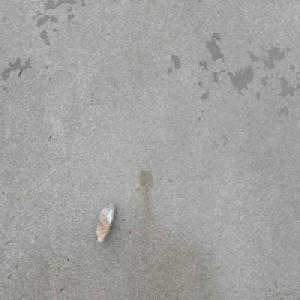Rock: (95, 200, 115, 245)
